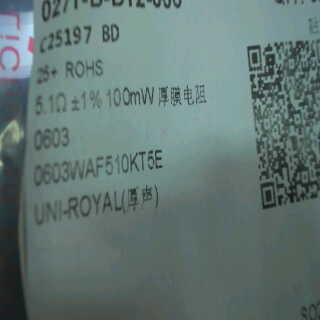5.1R: (33, 89, 66, 120)
